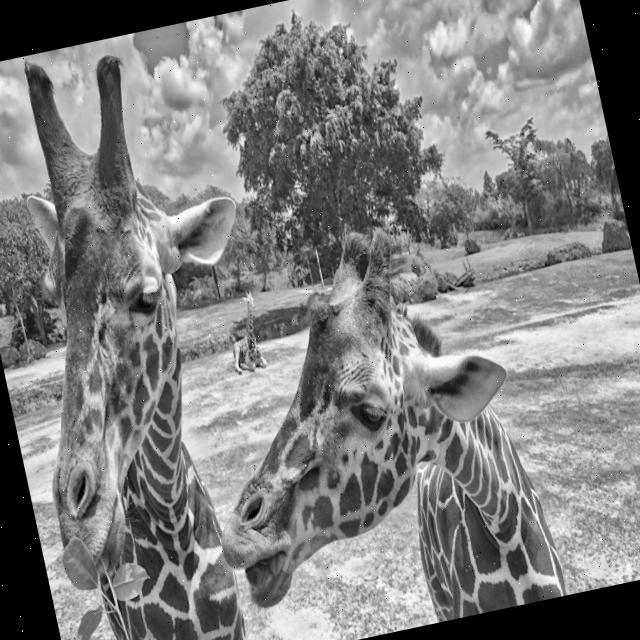Giraffe: (0, 25, 329, 640), (163, 204, 570, 640), (218, 290, 268, 374)
